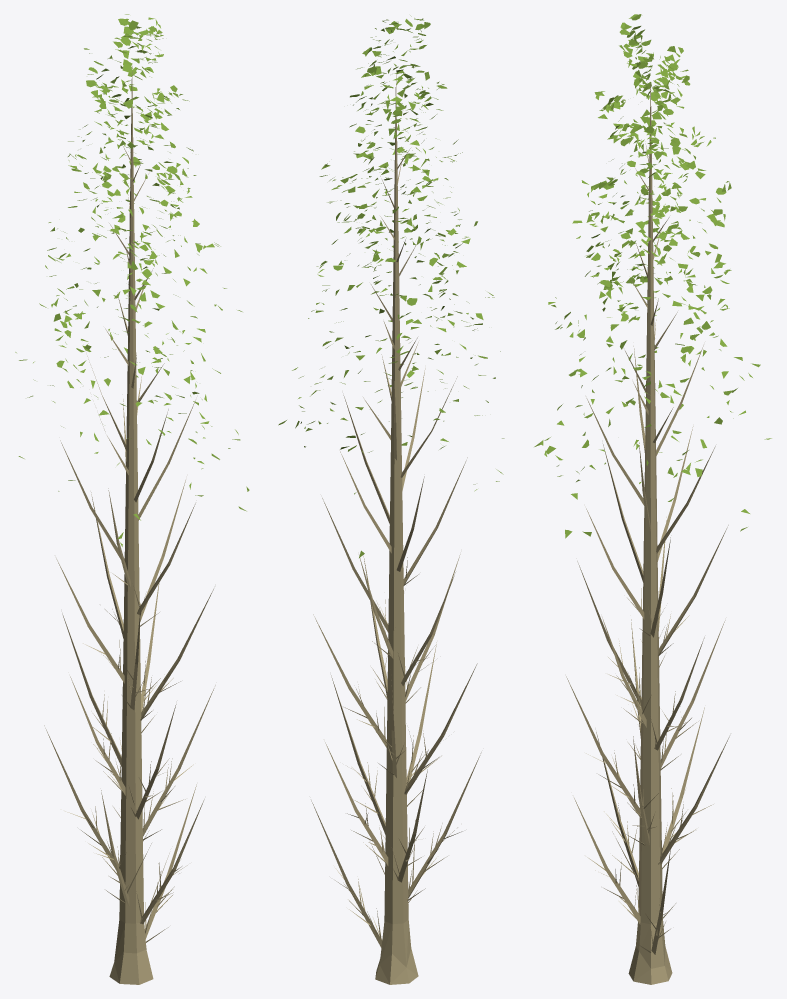
The model's file is tree_lombardy_poplar.glb.
3 views of the same model, side by side, from view 1: azimuth 30°, elevation 25°; view 2: azimuth 150°, elevation 25°; view 3: azimuth 270°, elevation 25° (orthographic).
Parts seen in each view (by area): view 1: trunk, leaves; view 2: trunk, leaves; view 3: trunk, leaves.
Boxes of the visible parts, bbox=[...] form: trunk: bbox=[44, 66, 215, 984]; leaves: bbox=[15, 14, 249, 546]; trunk: bbox=[311, 74, 481, 984]; leaves: bbox=[278, 15, 504, 557]; trunk: bbox=[566, 83, 729, 984]; leaves: bbox=[534, 14, 771, 538].
Bounding box in the file's own units: 1.57 × 7.5 × 1.7.
